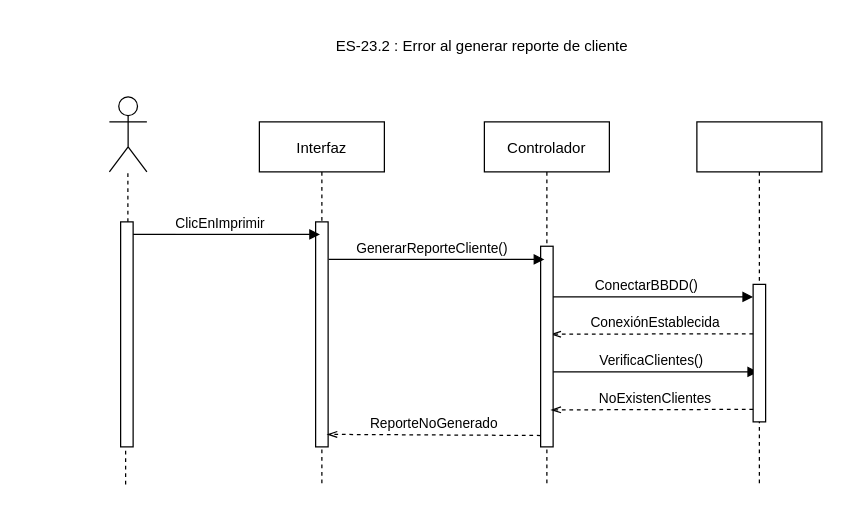
This 855x530 diagram has some shape labels left out. The shapes that lost their labels are listed below. From the top down, each one's box as (x1, y1, x2, y2) in pixels, then its label:
(108, 96, 147, 172): Gerente
(696, 121, 822, 484): BBDD
